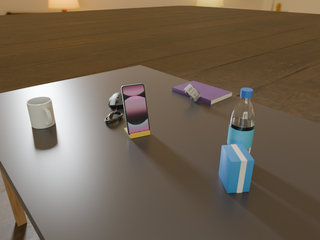book: (172, 81, 232, 105)
bottle: (227, 88, 255, 154)
box: (219, 144, 254, 193)
cup: (27, 97, 55, 129)
mouse: (109, 92, 124, 109)
phone: (121, 84, 150, 135)
toy_car: (184, 84, 200, 101)
